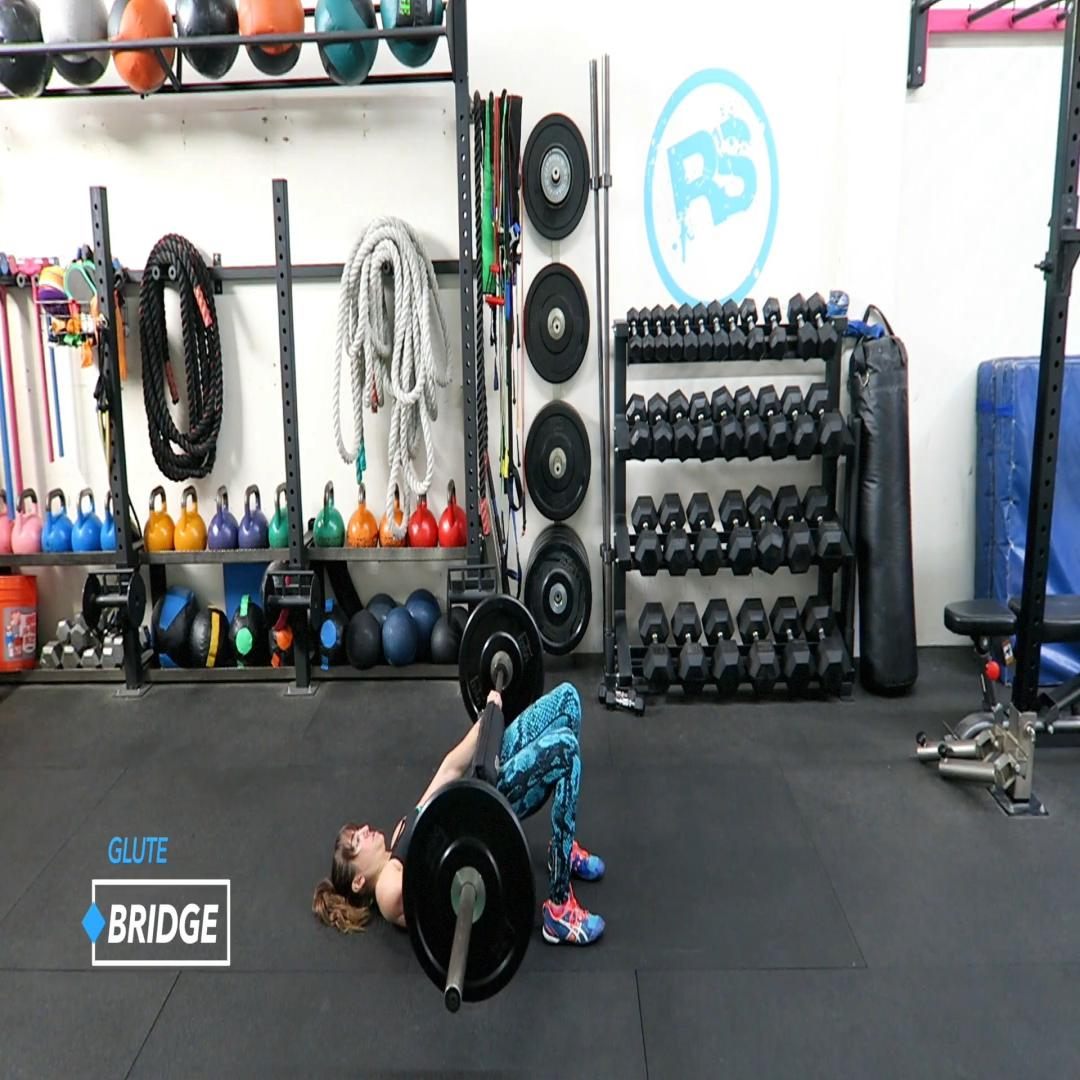Bar: (444, 985, 462, 1015)
Barbell: (402, 785, 535, 1003)
